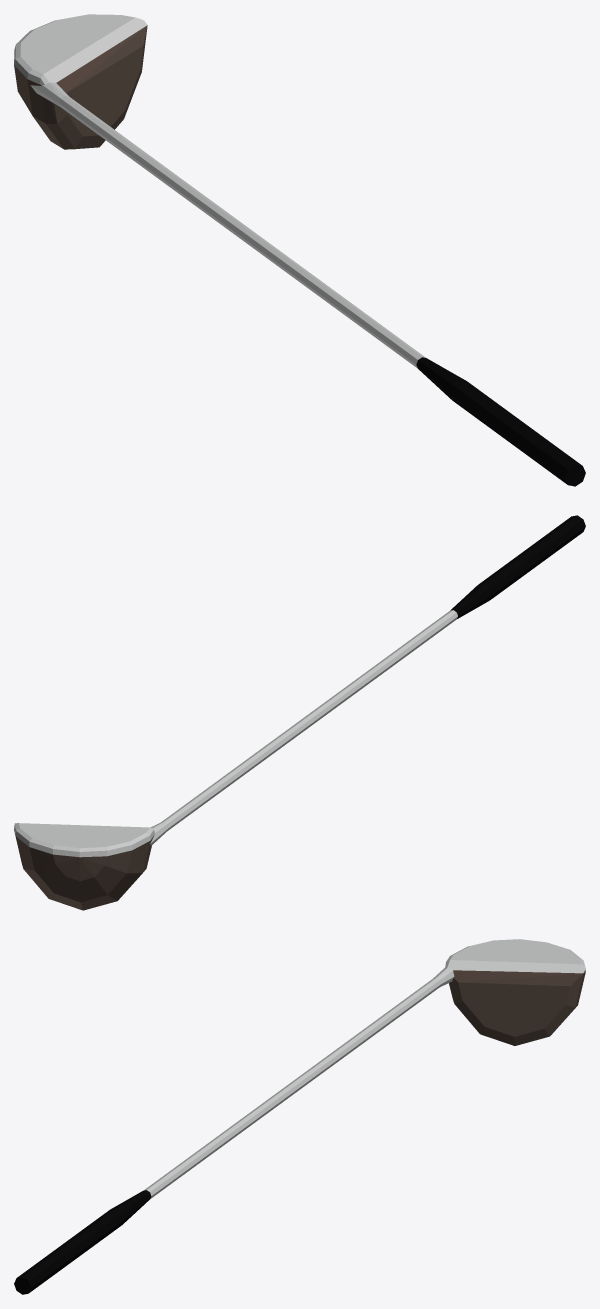
Rendered from Golf_Club.glb.
3 renders of one model, top to bottom at view 1: azimuth 30°, elevation 25°; view 2: azimuth 150°, elevation 25°; view 3: azimuth 330°, elevation 25°, orthographic. The views are drawn at different scales.
Parts seen in each view (by area): view 1: Golf_Club; view 2: Golf_Club; view 3: Golf_Club.
Boxes of the visible parts, box(x1,y1,x2,y2) form: Golf_Club: box(14, 14, 585, 486); Golf_Club: box(14, 515, 585, 910); Golf_Club: box(14, 939, 585, 1294).
Size of the model in its own units: 0.3292 by 0.2245 by 2.34.
Materials: 1 (1 with a texture image).
